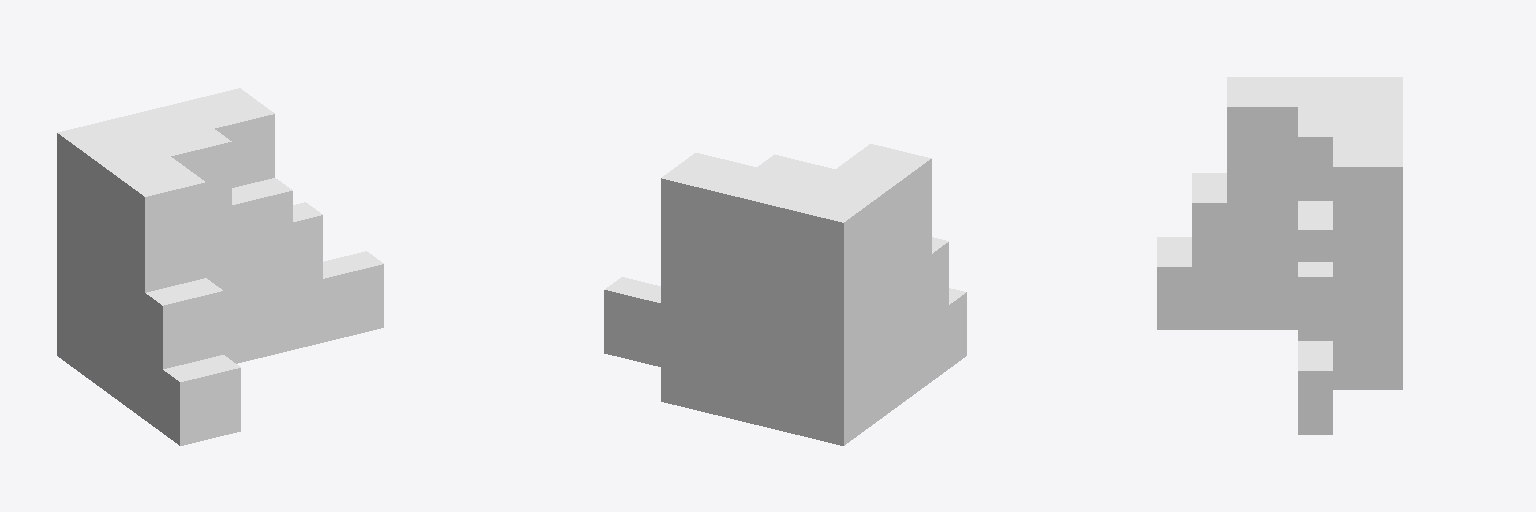
Rendered from generation_of_chaos_1-3.obj.
The picture shows the model from 3 angles: view 1: azimuth 30°, elevation 25°; view 2: azimuth 150°, elevation 25°; view 3: azimuth 270°, elevation 25°; orthographic projection.
Parts seen in each view (by area): view 1: object 1; view 2: object 1; view 3: object 1.
Boxes of the visible parts, x1=… form: object 1: x1=57, y1=88, x2=383, y2=445; object 1: x1=604, y1=144, x2=966, y2=445; object 1: x1=1157, y1=77, x2=1402, y2=434.
Bounding box in the file's own units: 0.9 × 0.7 × 0.7.